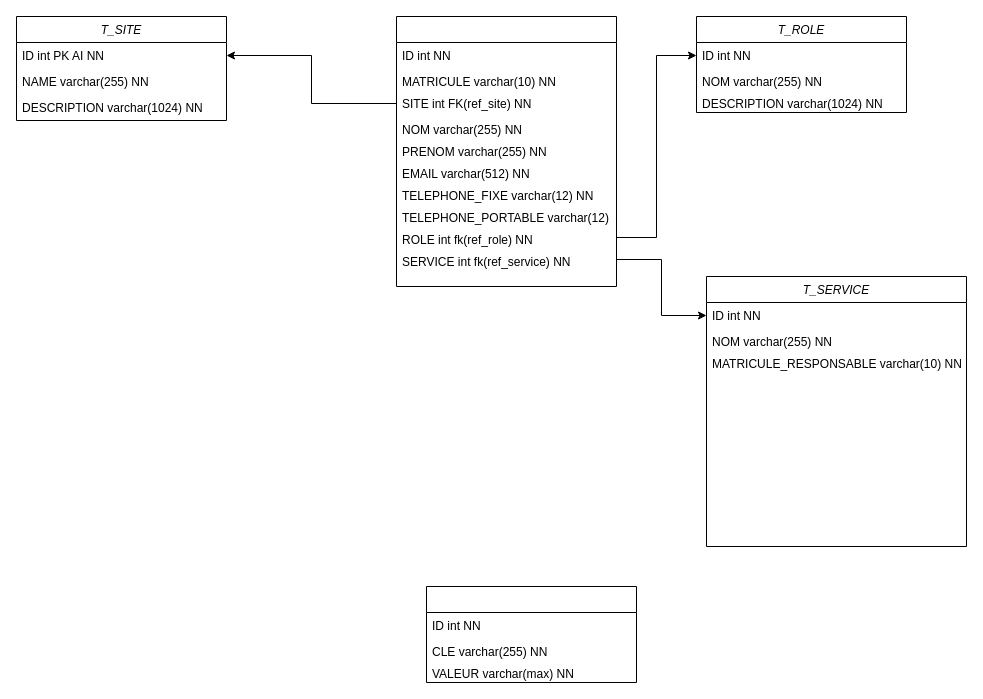
Image size: 983x699. Some labels were removed from this diagram. Here are the shapes that lost their labels. From the top down, the box of each, then its label:
(396, 16, 616, 286): T_COLLABORATEUR
(426, 586, 636, 682): T_CONFIGURATION
